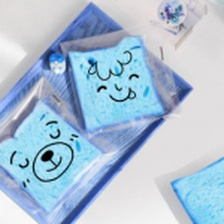snack: (0, 71, 124, 223), (53, 14, 187, 142), (147, 137, 224, 223)
